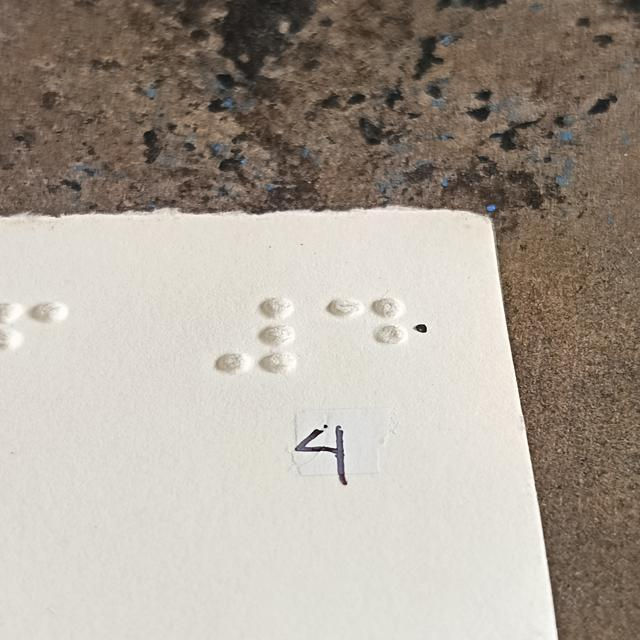4: (325, 295, 402, 372)
number: (217, 296, 294, 373)
